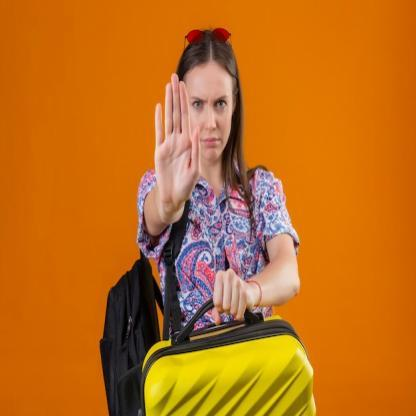stop: (154, 70, 204, 212)
